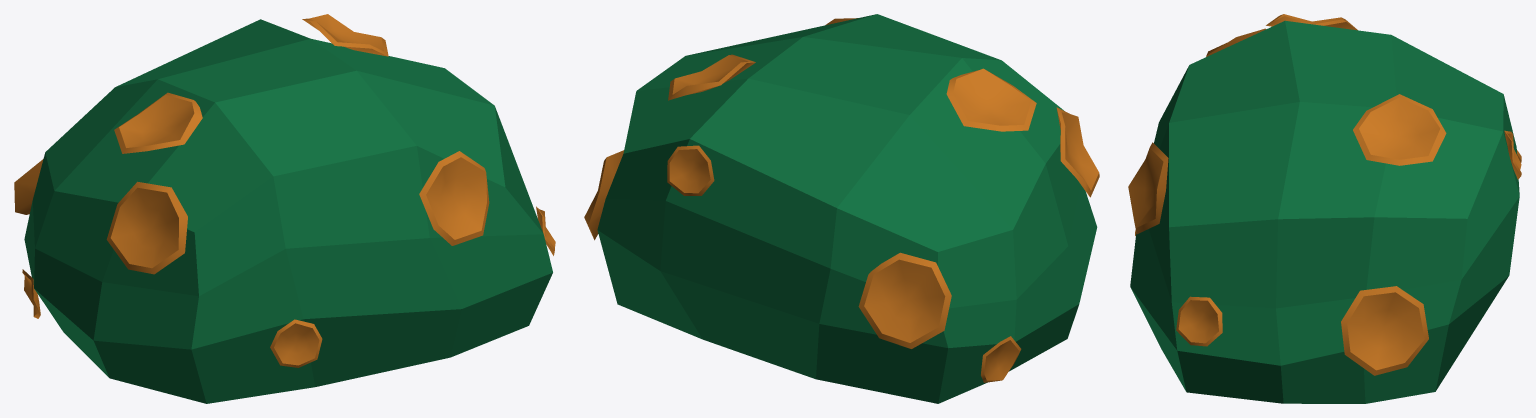
File: BushFlowers_FBX.fbx
The picture shows the model from 3 angles, left to right: view 1: azimuth 30°, elevation 25°; view 2: azimuth 150°, elevation 25°; view 3: azimuth 270°, elevation 25°; orthographic projection. The views are drawn at different scales.
Parts seen in each view (by area): view 1: Bush02, Cylinder017, Cylinder016, Cylinder018, Cylinder021, Cylinder015, Cylinder019; view 2: Bush02, Cylinder019, Cylinder018, Cylinder023, Cylinder017, Cylinder015, Cylinder024, Cylinder020; view 3: Bush02, Cylinder020, Cylinder015, Cylinder016, Cylinder022, Cylinder018, Cylinder023.
Part boxes in pixels (<box>): Bush02: <box>24,19,552,403</box>; Cylinder017: <box>106,181,187,274</box>; Cylinder016: <box>419,151,489,245</box>; Cylinder018: <box>114,92,202,153</box>; Cylinder021: <box>270,319,322,367</box>; Cylinder015: <box>302,14,388,56</box>; Cylinder019: <box>14,159,43,214</box>; Bush02: <box>597,14,1097,403</box>; Cylinder019: <box>858,252,951,348</box>; Cylinder018: <box>946,68,1036,131</box>; Cylinder023: <box>667,145,714,195</box>; Cylinder017: <box>1056,107,1099,197</box>; Cylinder015: <box>668,54,755,100</box>; Cylinder024: <box>981,336,1021,382</box>; Cylinder020: <box>584,150,623,240</box>; Bush02: <box>1130,20,1519,403</box>; Cylinder020: <box>1341,286,1428,375</box>; Cylinder015: <box>1353,94,1446,165</box>; Cylinder016: <box>1128,142,1168,234</box>; Cylinder022: <box>1176,296,1222,346</box>; Cylinder018: <box>1266,14,1357,30</box>; Cylinder023: <box>1504,130,1521,179</box>.
Size of the model in its own units: 180 by 99.2 by 144.
